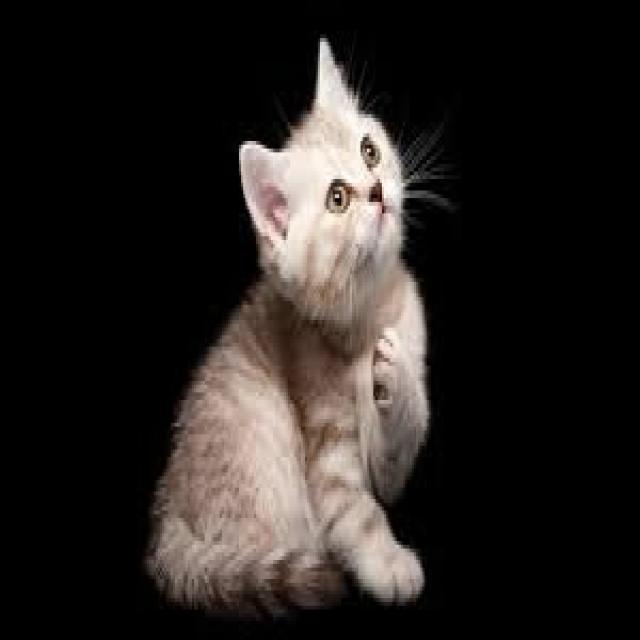cat: (145, 38, 429, 613)
